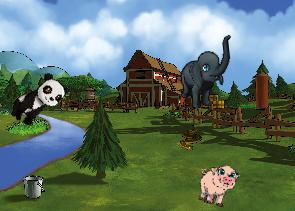elephant: (175, 35, 238, 110)
panda: (5, 69, 71, 132)
pig: (193, 160, 241, 210)
